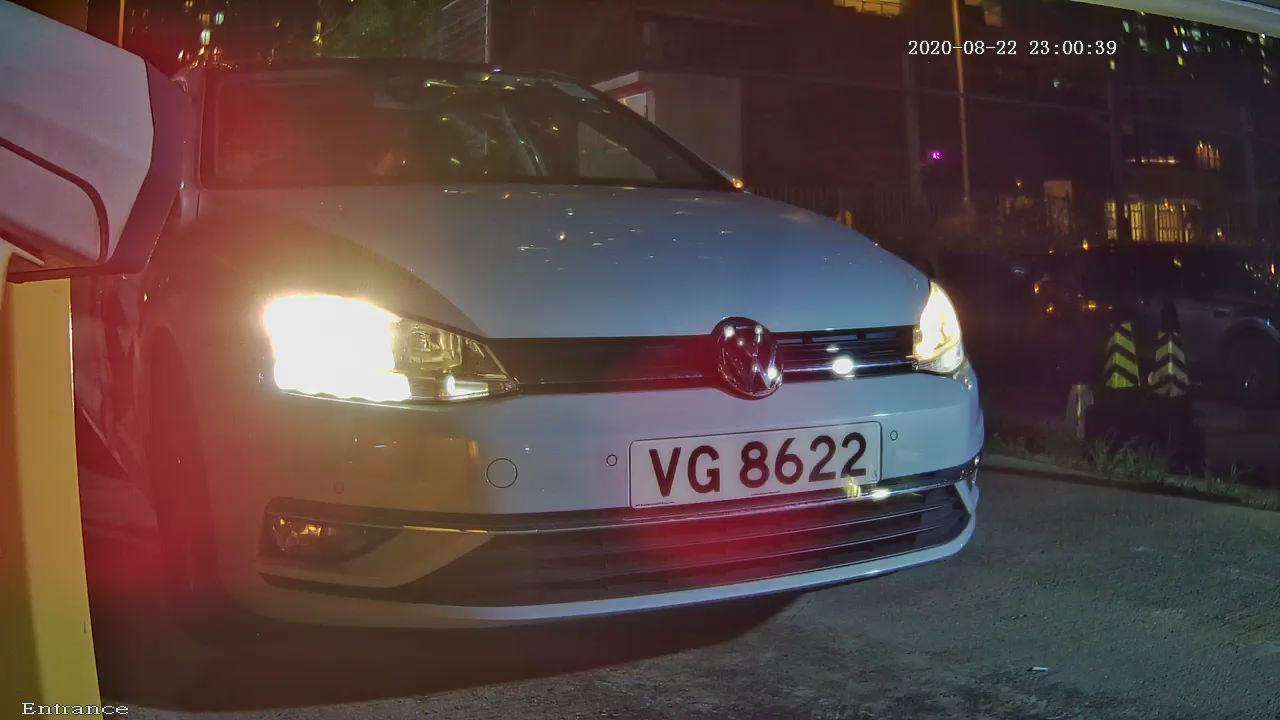Car: (1, 23, 1155, 682)
License Plate: (551, 371, 964, 567)
